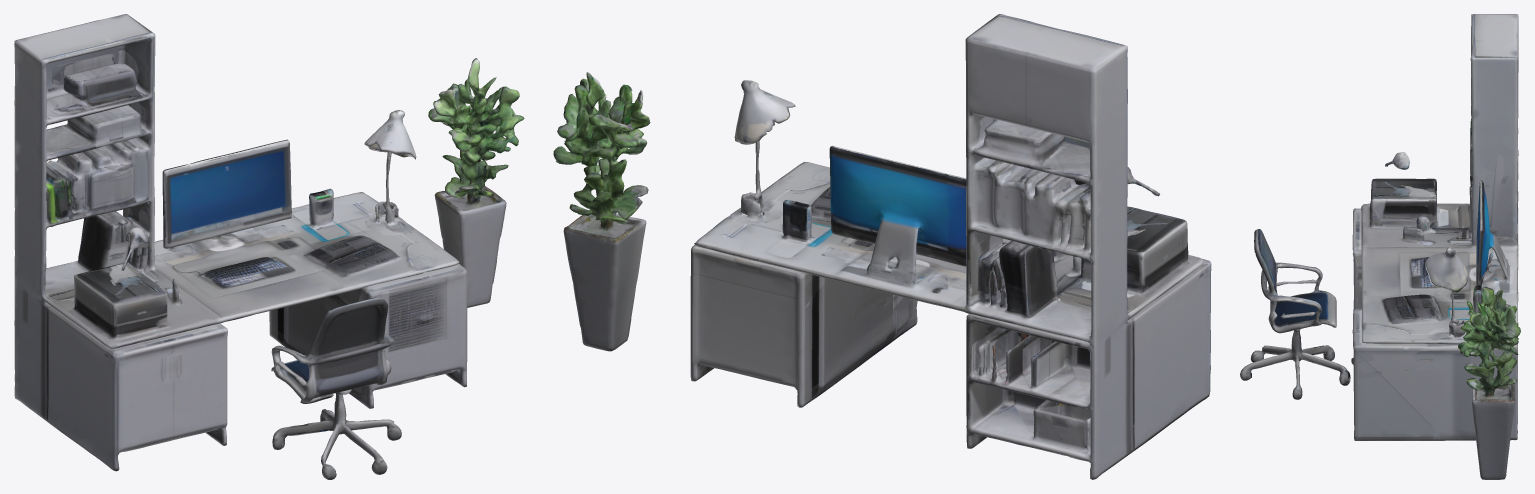
The model's file is studyroom.glb.
3 views of the same model, side by side, from view 1: azimuth 30°, elevation 25°; view 2: azimuth 150°, elevation 25°; view 3: azimuth 270°, elevation 25° (orthographic). The views are drawn at different scales.
Size of the model in its own units: 2 by 1.43 by 1.25.
1 material, 1 textured.
